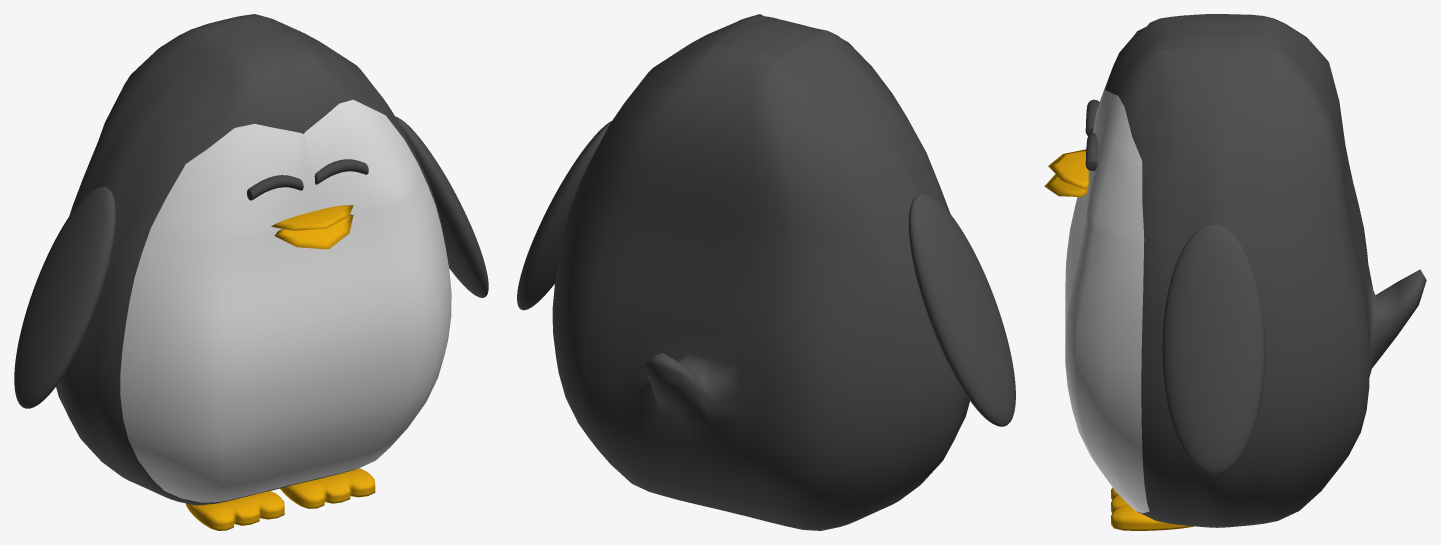
Rendered from pinguino_valeria.fbx.
The picture shows the model from 3 angles, left to right: view 1: azimuth 30°, elevation 25°; view 2: azimuth 150°, elevation 25°; view 3: azimuth 270°, elevation 25°; orthographic projection. The views are drawn at different scales.
Parts seen in each view (by area): view 1: polySurface8; view 2: polySurface8; view 3: polySurface8.
Part boxes in pixels (x1,y1,x2,y2): polySurface8: (14, 14, 488, 530); polySurface8: (517, 14, 1015, 530); polySurface8: (1044, 14, 1426, 530).
Bounding box in the file's own units: 1.28 × 1.17 × 0.8773.
